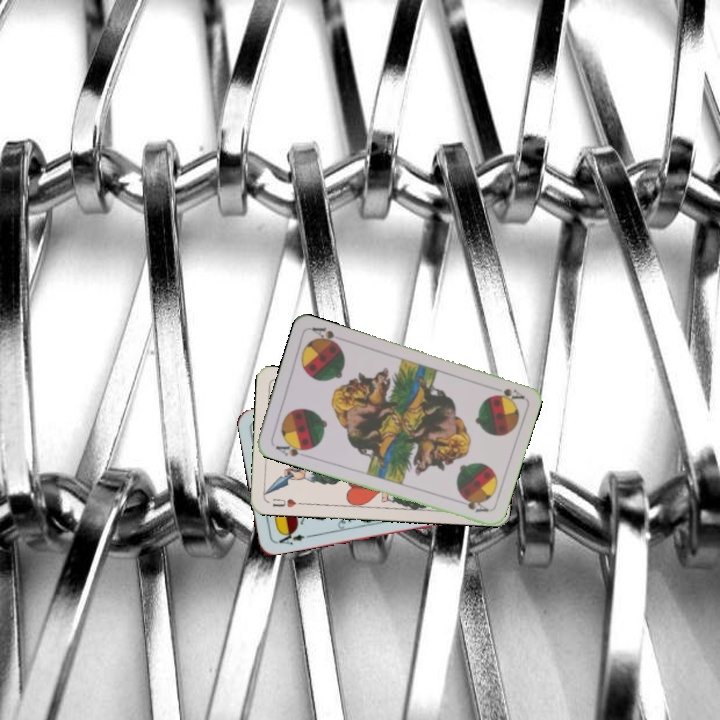EA: (272, 527, 312, 548)
HU: (268, 494, 305, 510)
SA: (271, 437, 312, 459), (490, 384, 526, 404)
